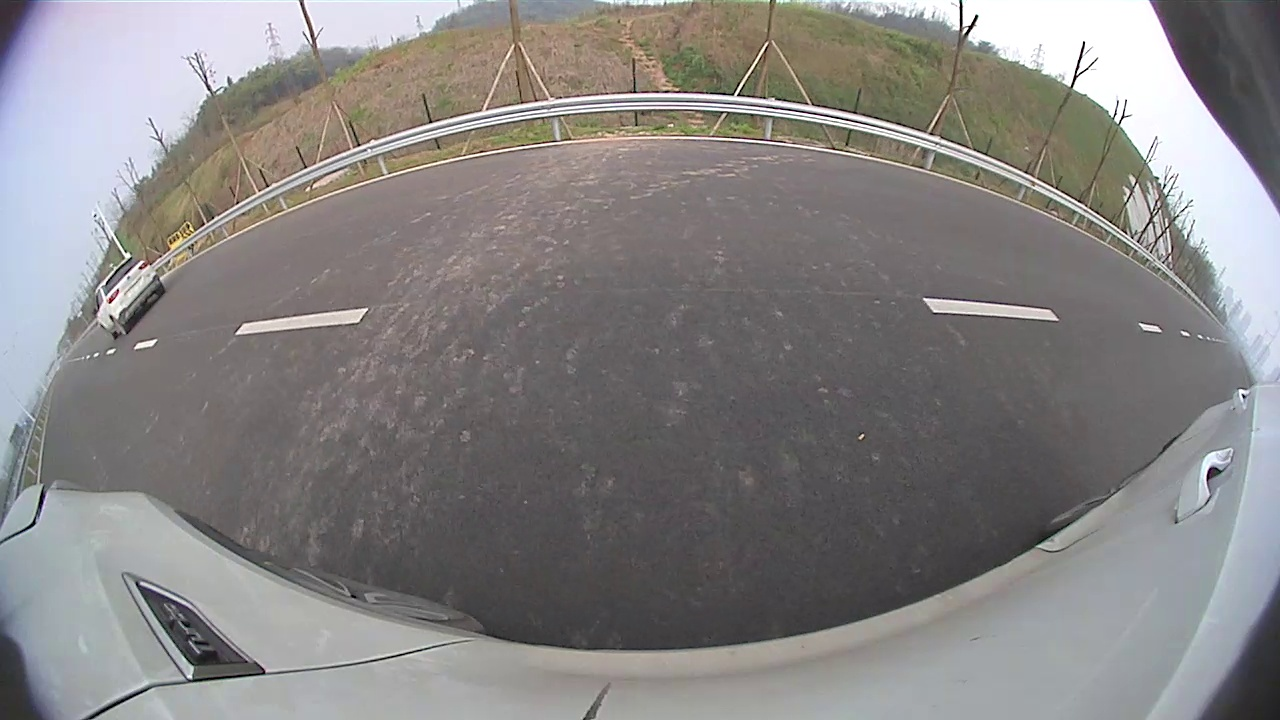car: (579, 7, 938, 237)
front: (888, 179, 928, 233)
rear: (696, 153, 774, 236)
